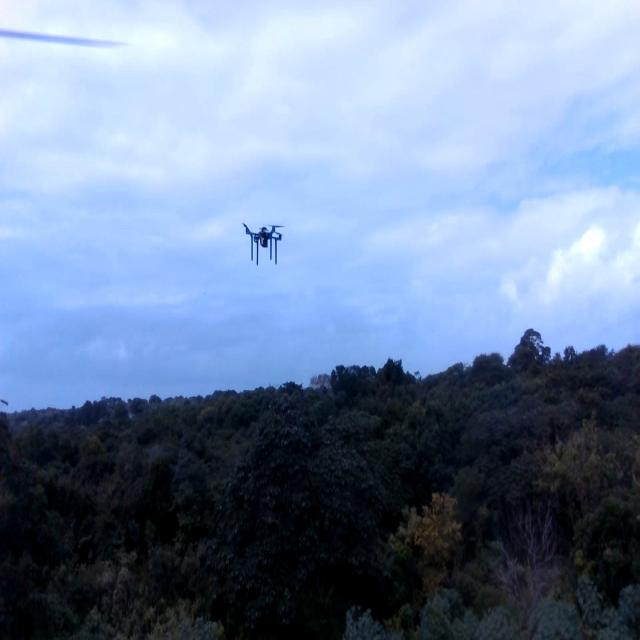-uav-: (236, 200, 292, 268)
